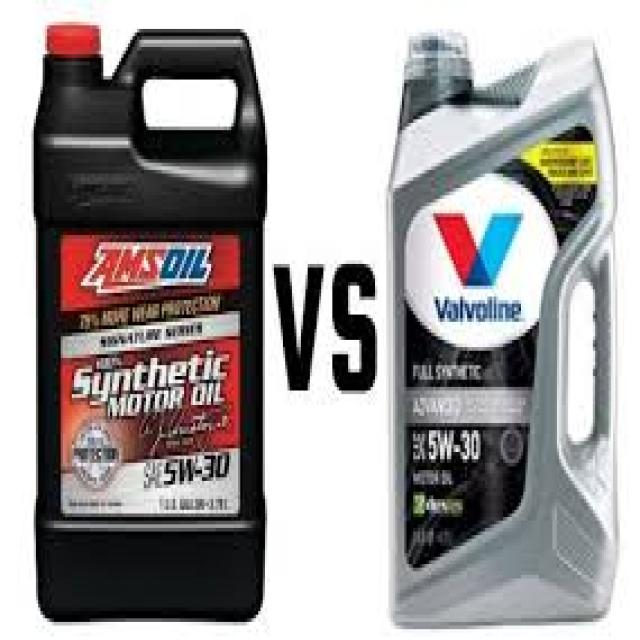motor_oil: (31, 15, 269, 626), (383, 28, 619, 632)
